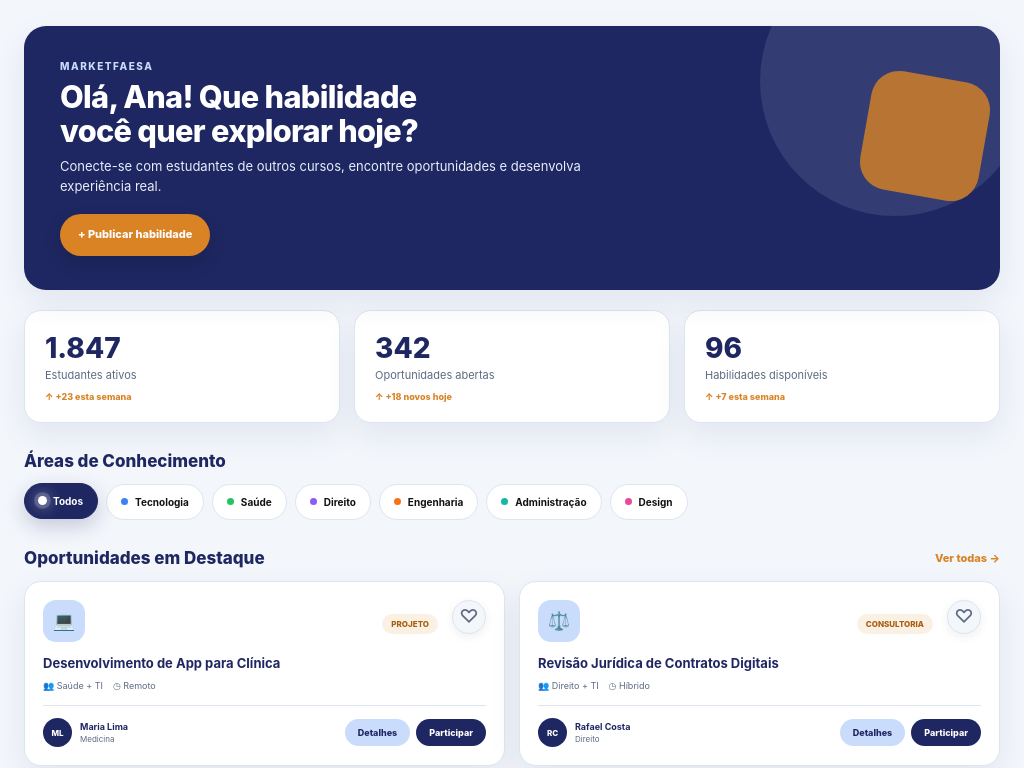
Test: Página inicial — persistência das oportunidades › persiste e atualiza a interface quando salvar uma oportunidade funciona
The width and height of the screenshot is (1024, 768).
Click the button named "Salvar oportunidade". click: (469, 617)
box: x1=452 y1=600 x2=486 y2=634
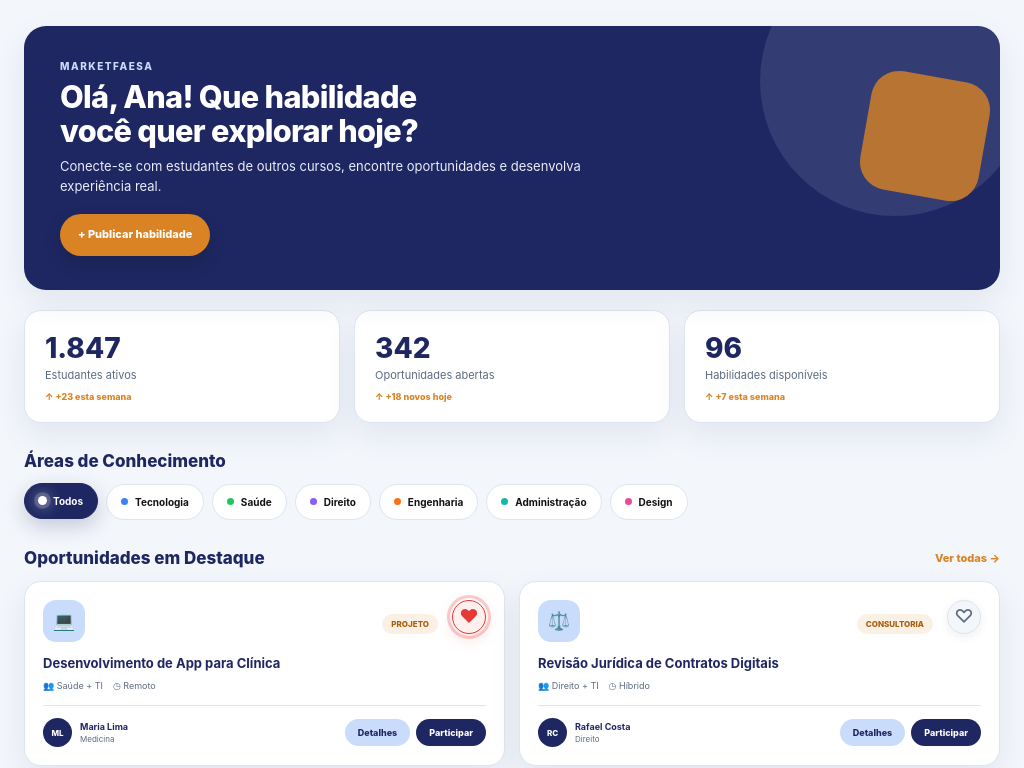
Check: the button named "Remover dos salvos" is shown, box x1=452 y1=600 x2=486 y2=634
